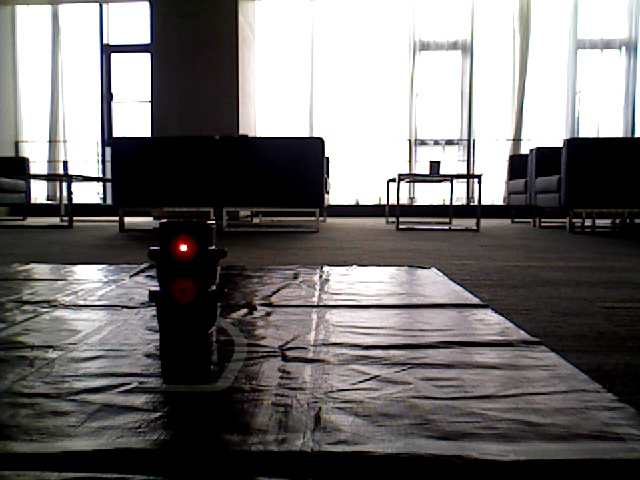red: (161, 212, 216, 328)
